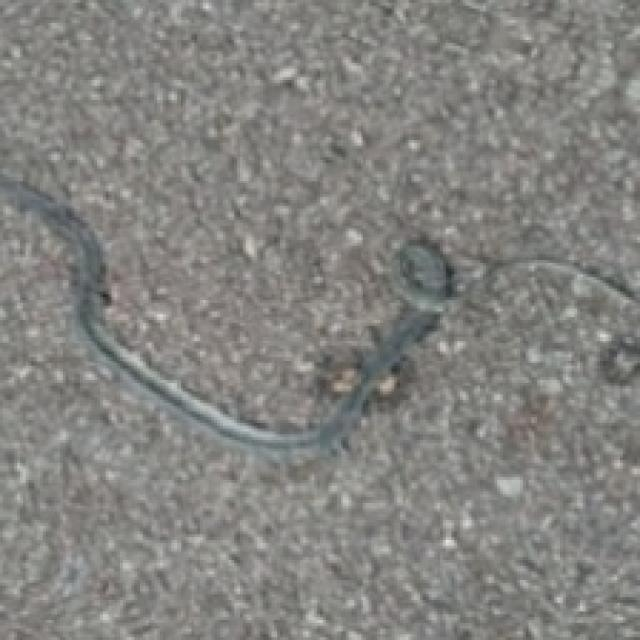paradise tree snake: (0, 177, 283, 446), (460, 260, 637, 417)
